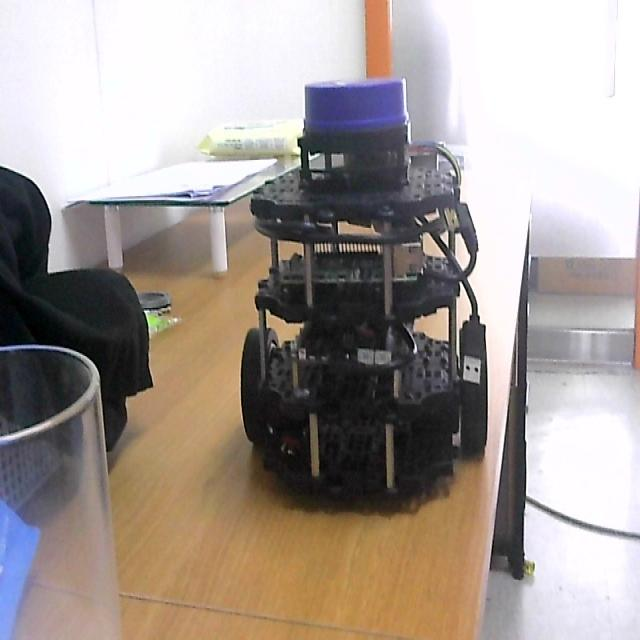turtle: (238, 79, 491, 519)
